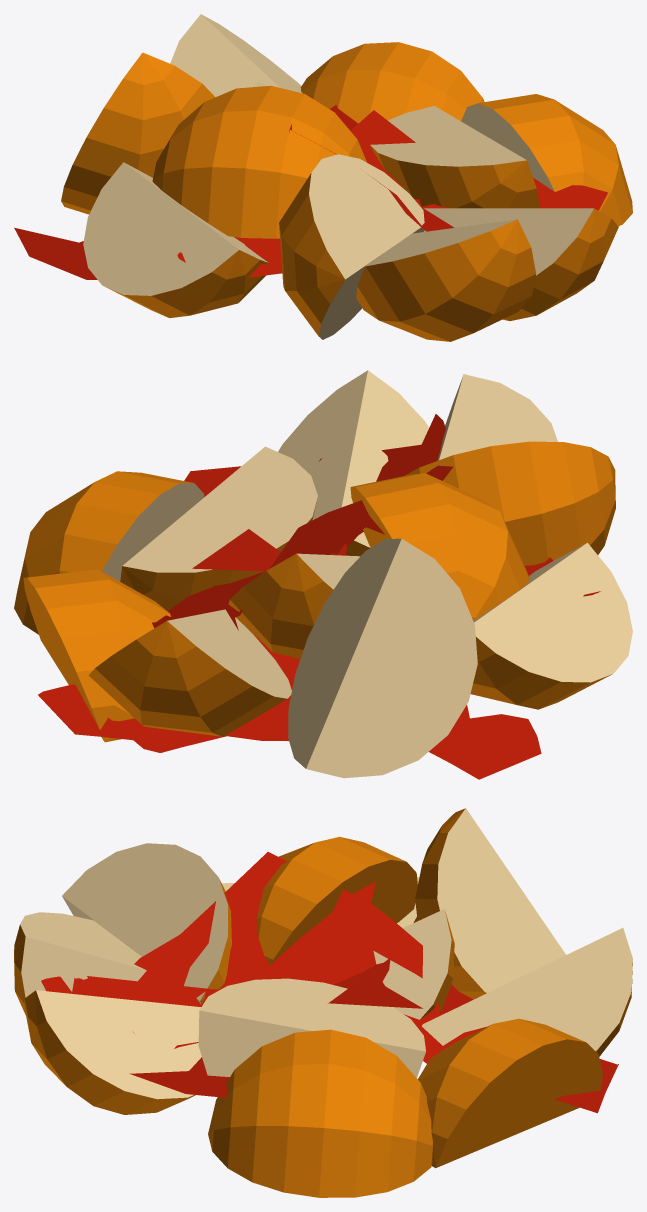
The model's file is patatas.fbx.
The picture shows the model from 3 angles, top to bottom: view 1: azimuth 30°, elevation 25°; view 2: azimuth 150°, elevation 25°; view 3: azimuth 270°, elevation 25°; orthographic projection. The views are drawn at different scales.
Parts seen in each view (by area): view 1: wedge16, wedge3, wedge1, wedge2, wedge9, wedge4, wedge7, wedge6, wedge8, wedge5, nurbsToPoly2, nurbsToPoly3 (+1 smaller); view 2: wedge4, wedge3, wedge5, wedge2, wedge9, wedge16, wedge7, wedge8, wedge6, nurbsToPoly3, wedge, nurbsToPoly1 (+2 smaller); view 3: wedge7, nurbsToPoly1, wedge6, wedge8, wedge4, wedge2, wedge9, wedge5, wedge16, wedge1, wedge, nurbsToPoly2 (+1 smaller).
Part boxes in pixels (box(x1,y1,x2,y2)): wedge16: box(152, 85, 366, 238); wedge3: box(83, 162, 268, 317); wedge1: box(356, 219, 535, 341); wedge2: box(279, 154, 424, 339); wedge9: box(370, 106, 540, 208); wedge4: box(61, 52, 215, 214); wedge7: box(461, 94, 632, 226); wedge6: box(300, 42, 484, 123); wedge8: box(424, 208, 618, 320); wedge5: box(170, 14, 302, 97); nurbsToPoly2: box(177, 110, 607, 277); nurbsToPoly3: box(14, 227, 97, 279); wedge4: box(288, 538, 477, 778); wedge3: box(470, 543, 632, 709); wedge5: box(88, 609, 291, 736); wedge2: box(404, 441, 615, 565); wedge9: box(120, 446, 317, 611); wedge16: box(350, 473, 529, 620); wedge7: box(14, 471, 204, 634); wedge8: box(278, 370, 428, 556); wedge6: box(23, 569, 171, 742); nurbsToPoly3: box(38, 630, 541, 779); wedge: box(228, 553, 359, 658); nurbsToPoly1: box(152, 414, 452, 630); wedge7: box(208, 1029, 432, 1197); nurbsToPoly1: box(41, 852, 486, 1063); wedge6: box(418, 1018, 602, 1168); wedge8: box(24, 990, 201, 1114); wedge4: box(415, 808, 565, 999); wedge2: box(62, 843, 231, 1004); wedge9: box(198, 978, 425, 1077); wedge5: box(422, 928, 632, 1056); wedge16: box(256, 836, 417, 965); wedge1: box(14, 912, 146, 1015); wedge: box(373, 909, 454, 1019); nurbsToPoly2: box(129, 958, 422, 1097).
Size of the model in its own units: 21.52 by 7.42 by 21.47.
